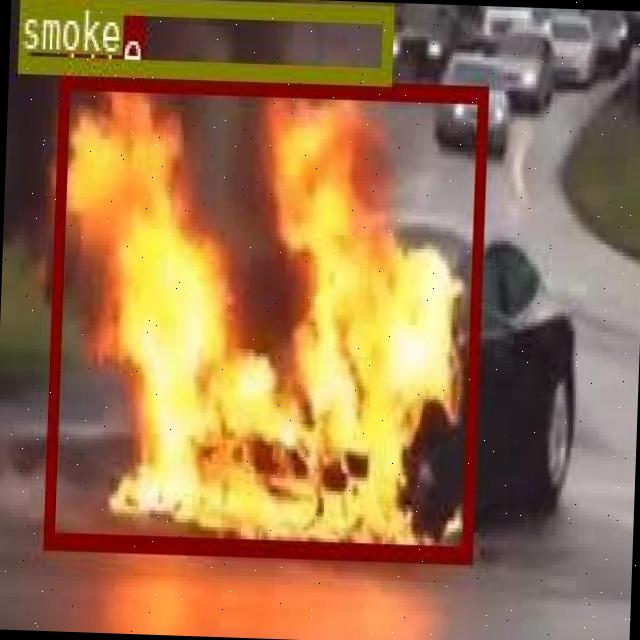fire: (41, 68, 485, 560)
smoke: (16, 0, 391, 81)
